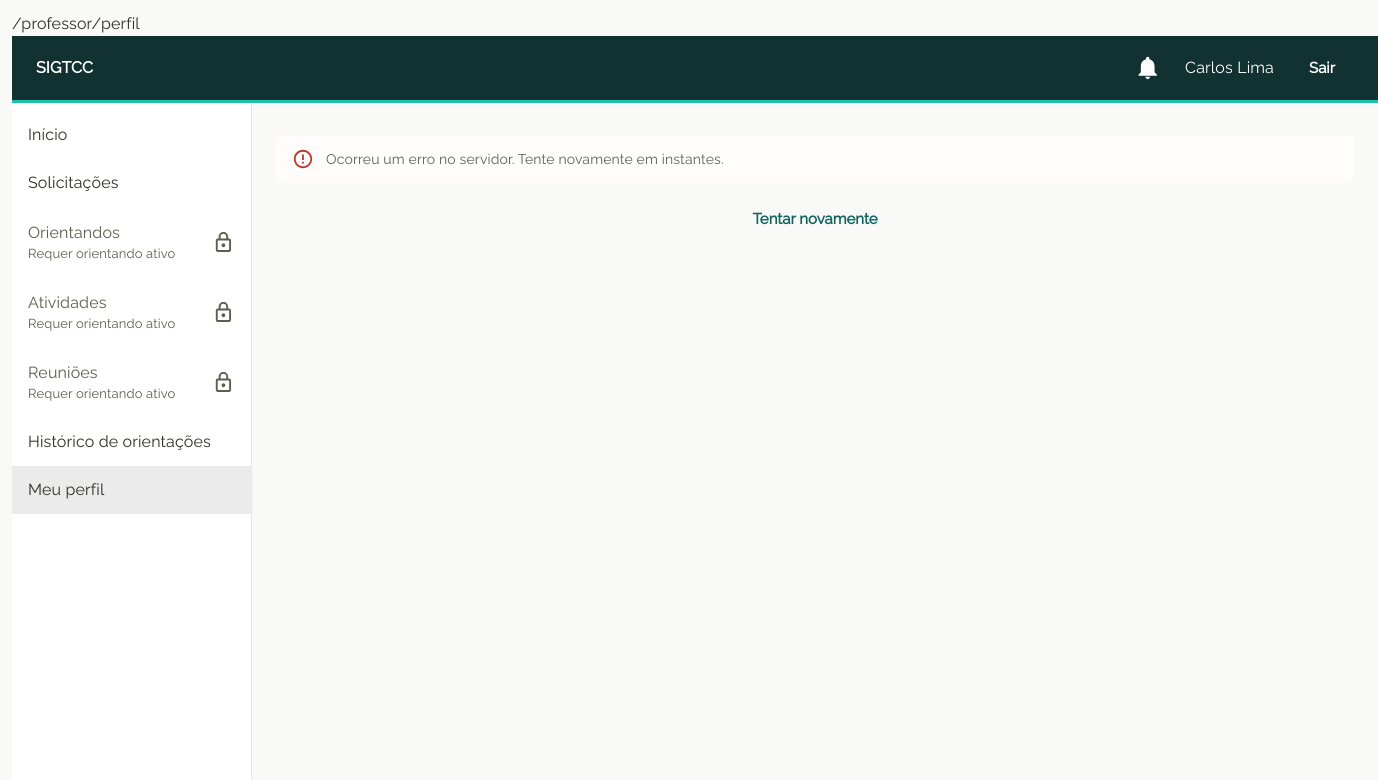
Test: TeacherProfilePage: carregamento › mostra o erro de carregamento e tenta de novo
The image size is (1378, 780).
Expected: the message shows "Ocorreu um erro no servidor", [326,151,724,167]
Click the button "Tentar novamente": {"x": 815, "y": 219} [276,199,1354,239]
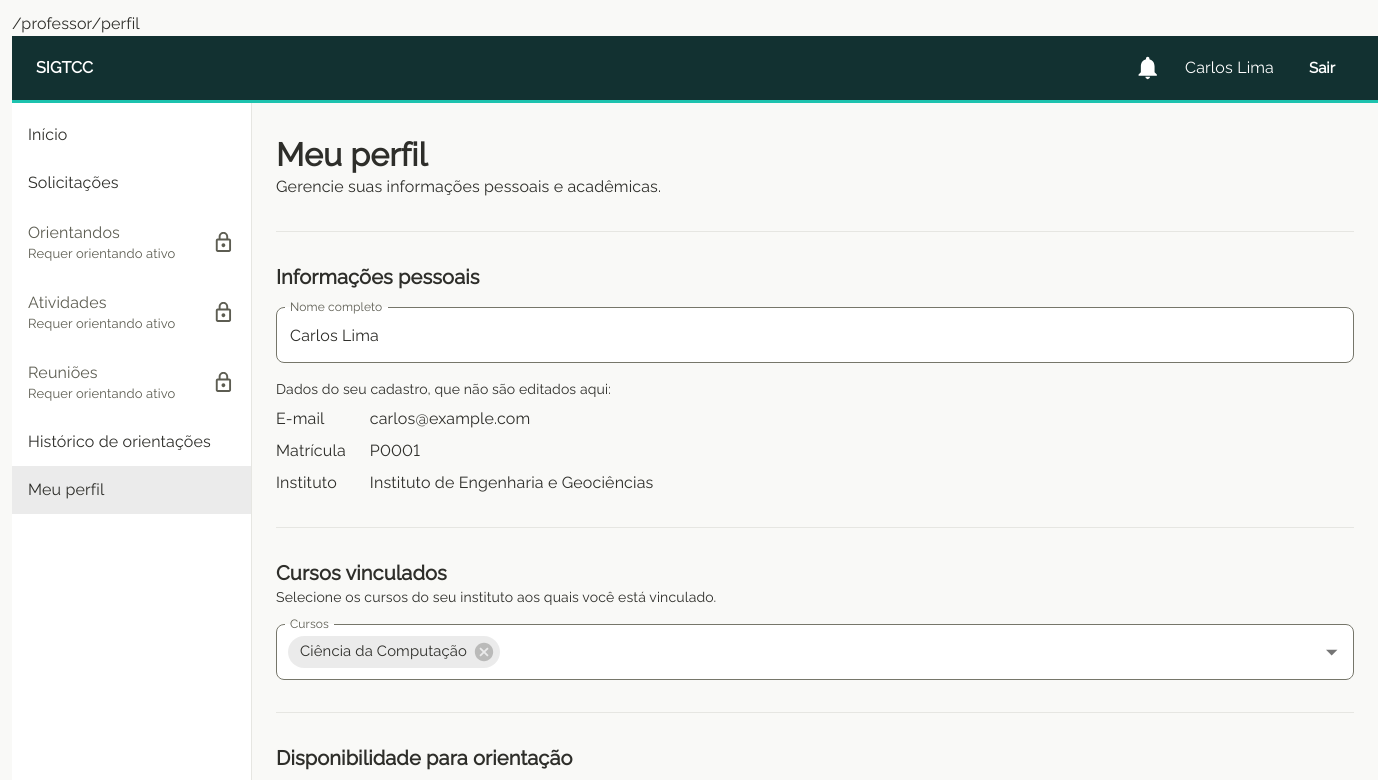
Expected: the field labelled "Nome completo" holds "Carlos Lima", [276,307,1354,363]
